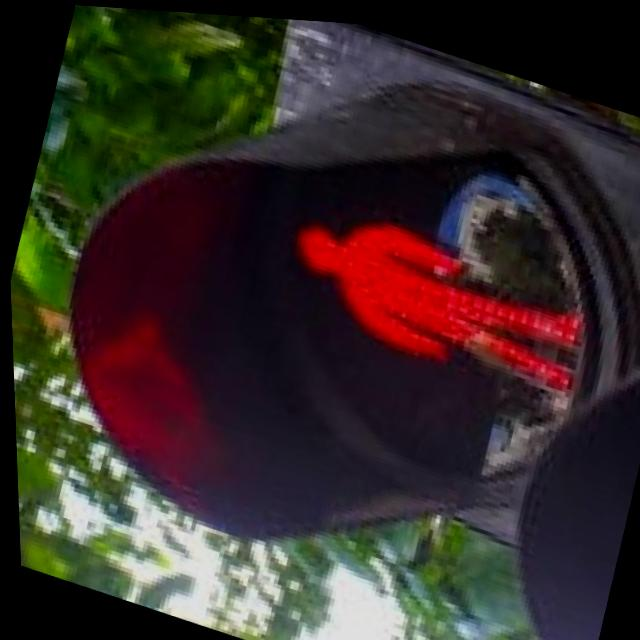red_light: (242, 174, 606, 433)
